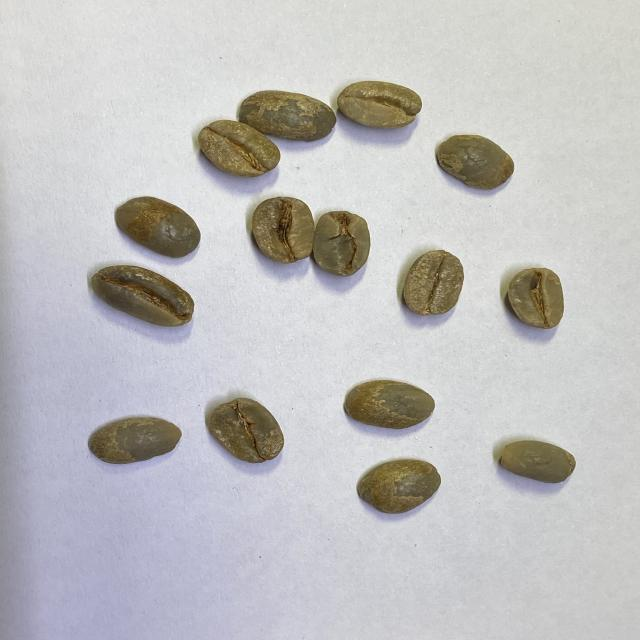bad: (312, 210, 371, 276)
good: (88, 265, 196, 327), (236, 88, 336, 142), (115, 197, 202, 259), (87, 413, 184, 466), (207, 399, 286, 463), (343, 378, 436, 431), (356, 458, 443, 514), (198, 119, 280, 177), (435, 133, 514, 190), (402, 246, 465, 317), (250, 195, 314, 262), (338, 80, 423, 129), (494, 438, 576, 486), (509, 268, 564, 329)
